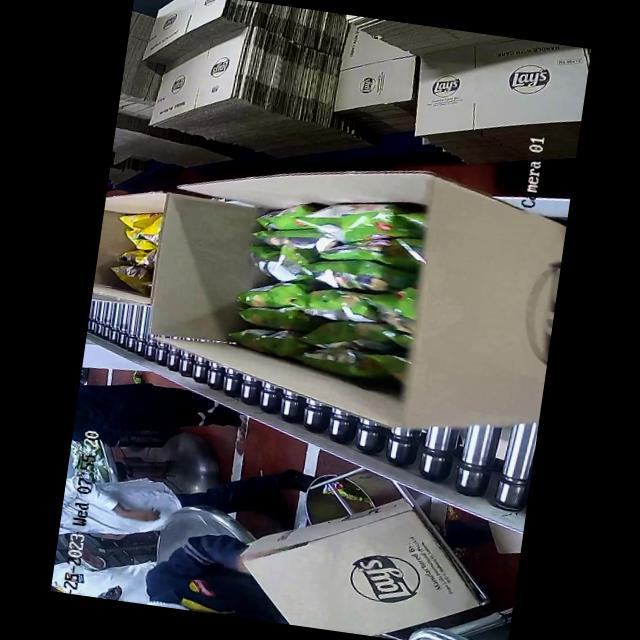salted: (92, 196, 180, 295)
yogurt: (216, 196, 427, 380)
